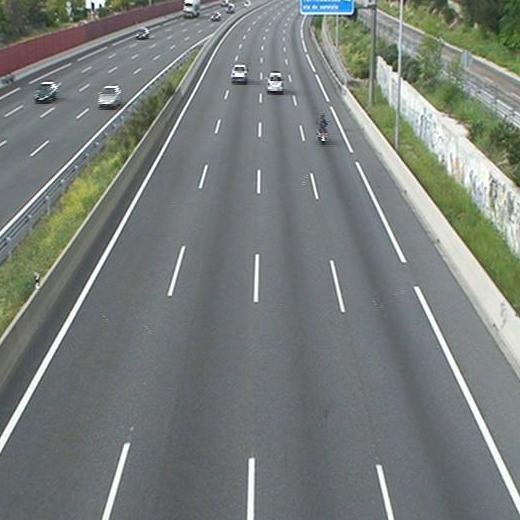car: (266, 73, 284, 92), (231, 65, 247, 82)
motorcycle: (316, 112, 329, 143)
